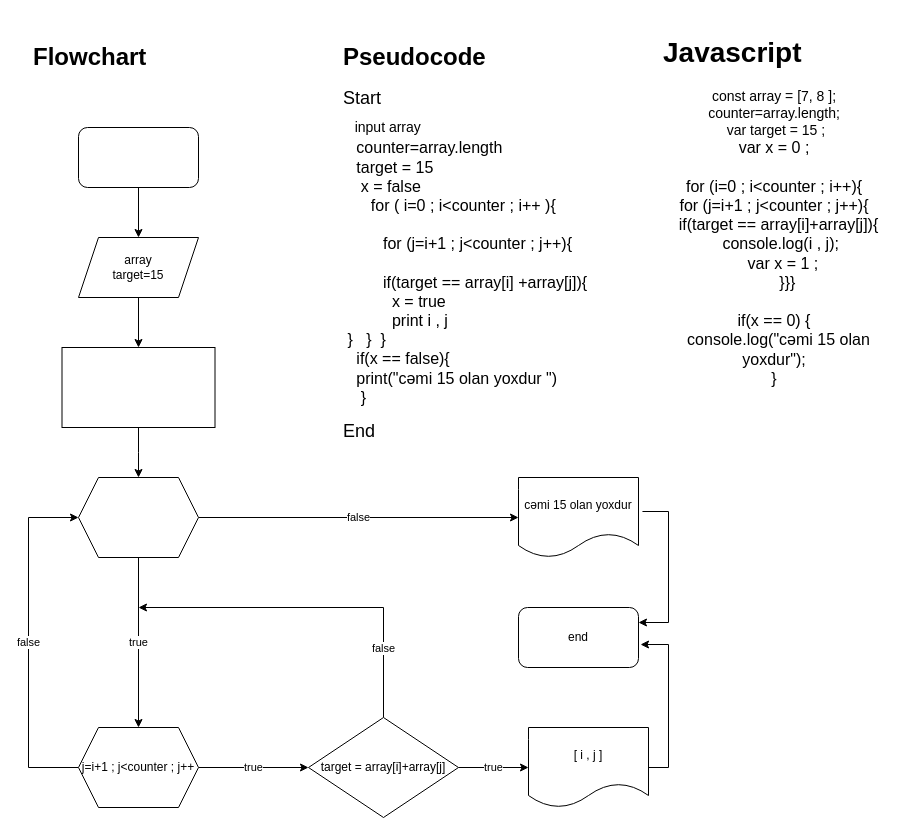
The diagram is 906 pixels wide and 835 high, and some of its shapes have lost their labels. Here are the shapes that lost their labels. From the top down, the centre of each, then its label:
At point 138,157: "start".
At point 138,387: "counter=array.length".
At point 138,517: "i=0 ; i<counter ; i++".
